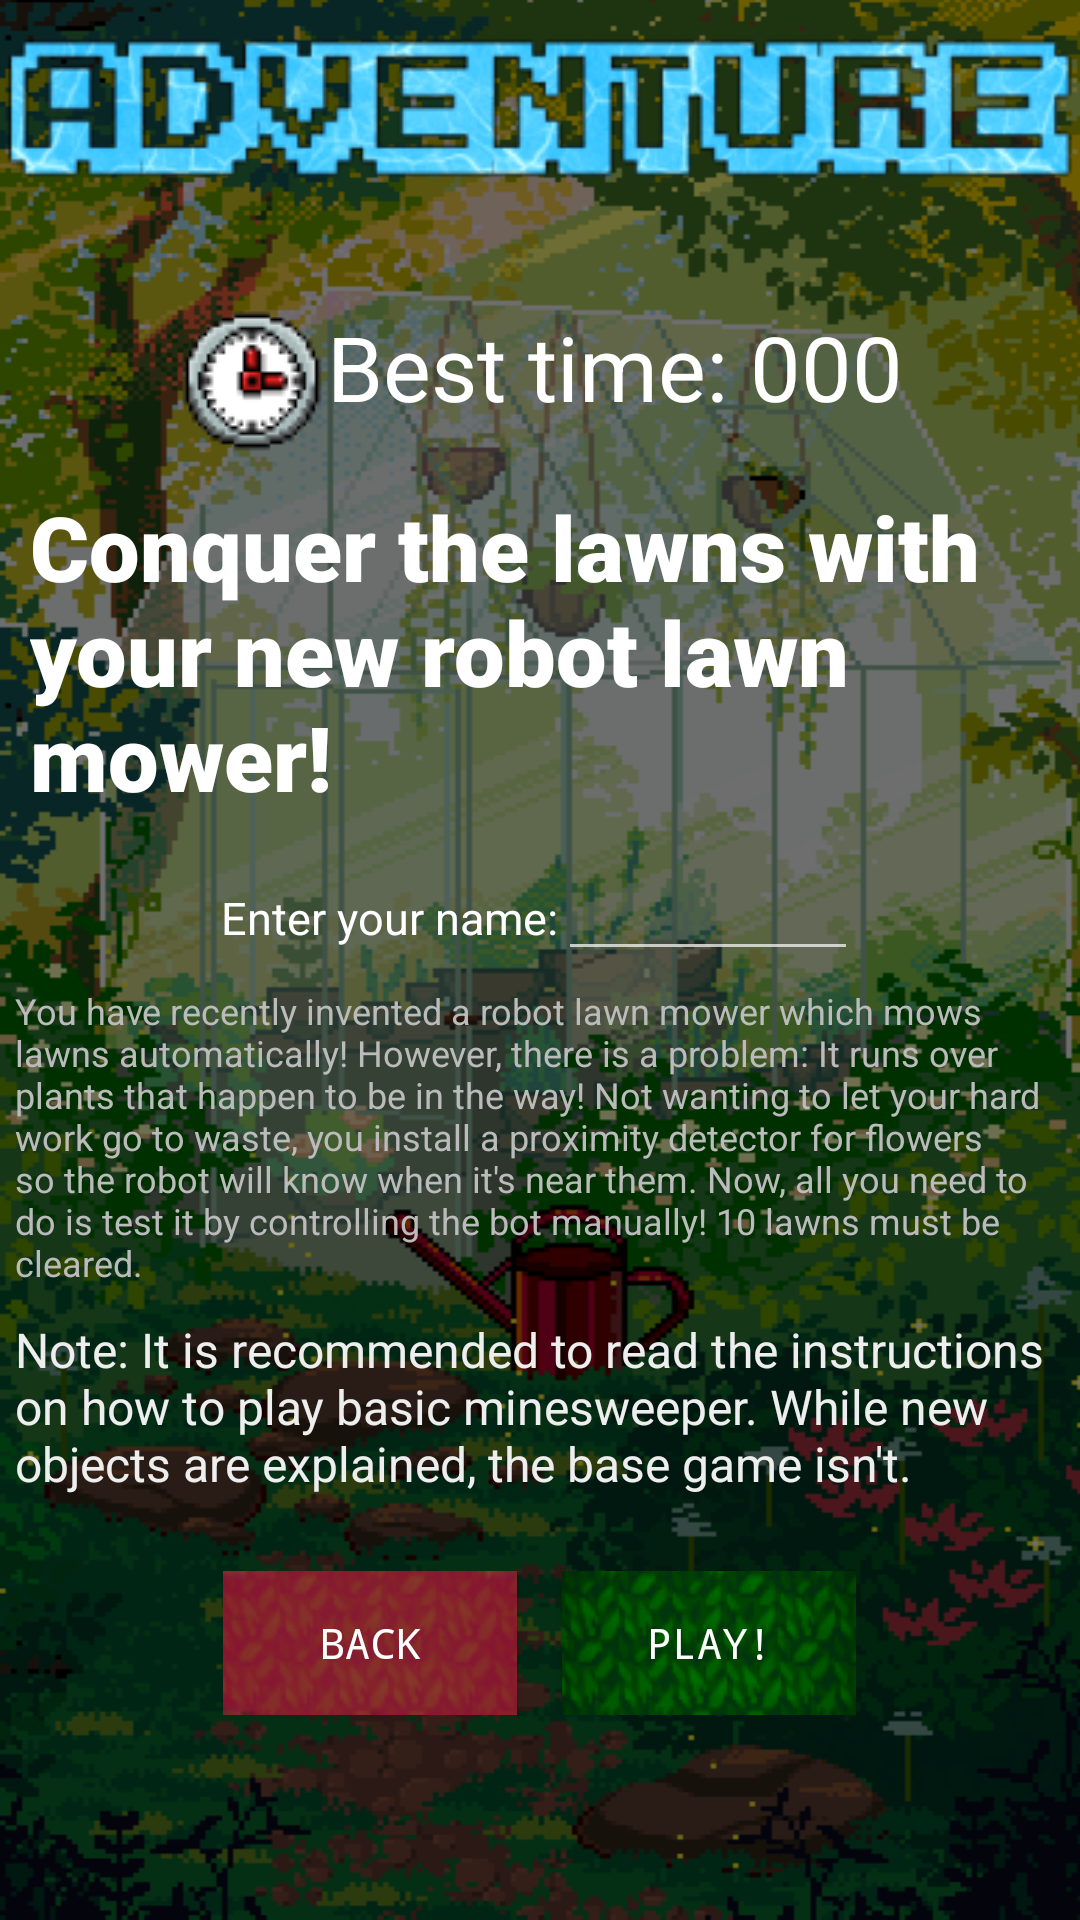

Icons on this 1080w x 1920h Android screen, each with the point to tap as (x=x, y=y):
clock: (x=252, y=381)
